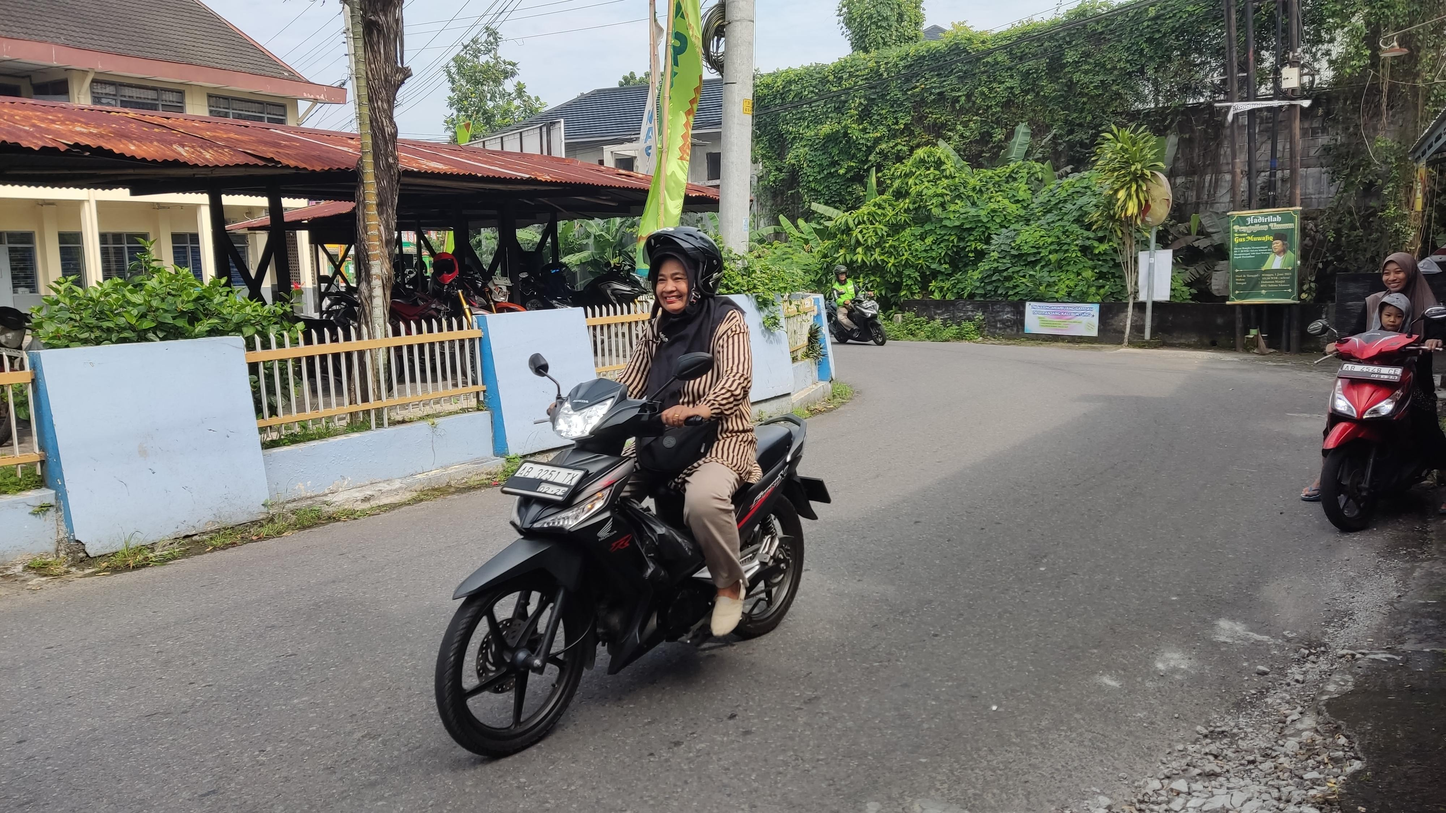helm: (639, 225, 729, 317)
riding: (431, 224, 836, 760)
